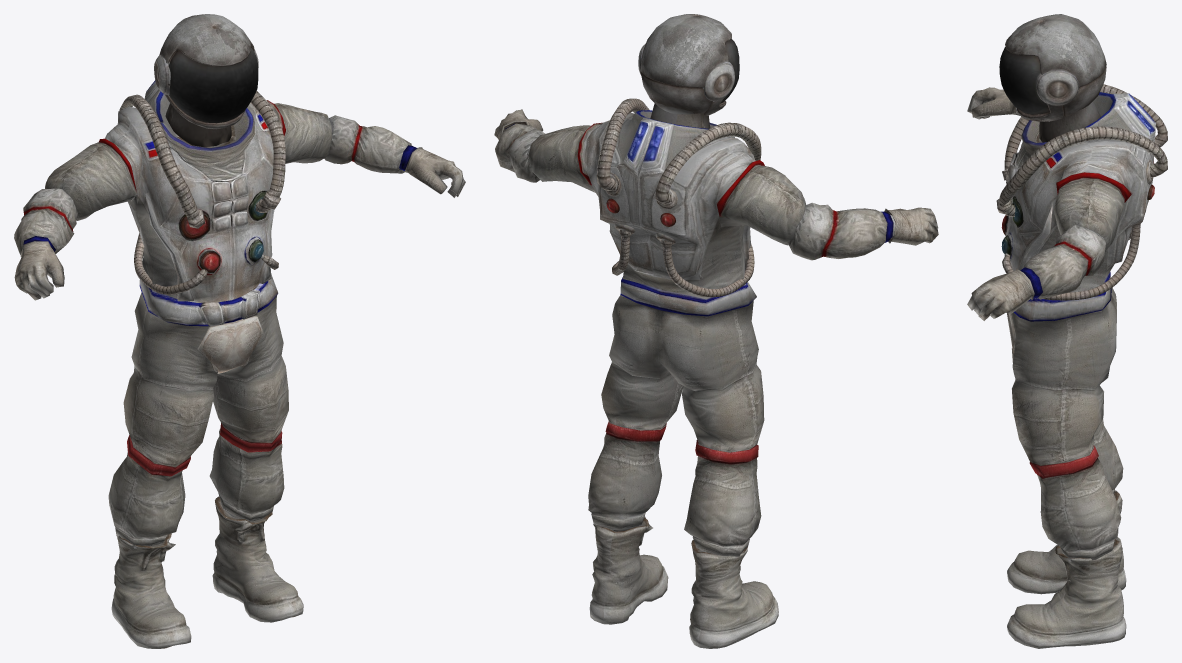
The model's file is Astronaut.fbx.
3 views of the same model, side by side, from view 1: azimuth 30°, elevation 25°; view 2: azimuth 150°, elevation 25°; view 3: azimuth 270°, elevation 25° (orthographic). The views are drawn at different scales.
Visible parts, largest first — view 1: astronaut, astronautvisir; view 2: astronaut; view 3: astronaut, astronautvisir.
Part boxes in pixels (x1,y1,x2,y2): astronaut: [14, 14, 465, 648]; astronautvisir: [168, 47, 258, 123]; astronaut: [494, 14, 938, 648]; astronaut: [967, 14, 1167, 648]; astronautvisir: [999, 47, 1049, 114].
Bounding box in the file's own units: 7685 × 10000 × 3080.
2 materials, 2 textured.
